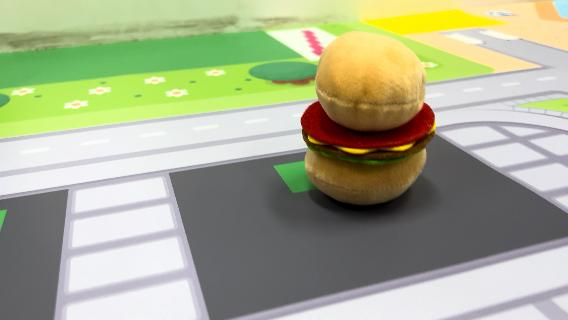burger: (297, 28, 440, 208)
